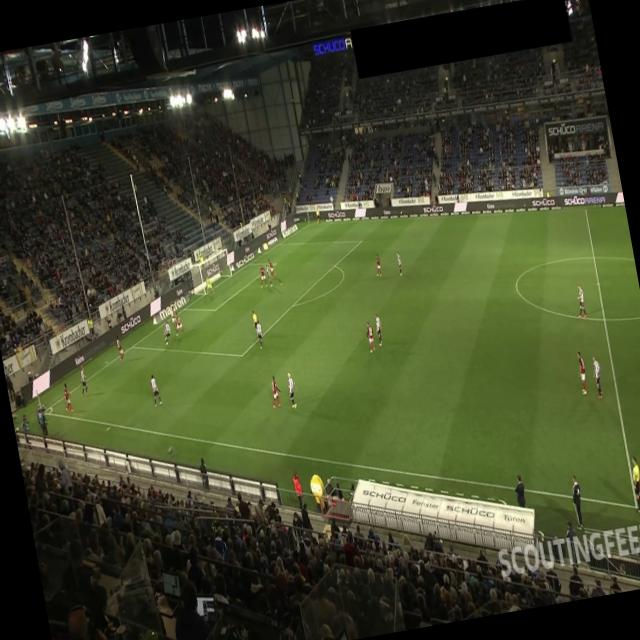goalkeeper: (202, 274, 216, 297)
player: (589, 354, 605, 398), (575, 350, 589, 395), (266, 374, 284, 409), (284, 371, 300, 408), (148, 372, 162, 407), (573, 283, 587, 318), (60, 382, 74, 413), (372, 311, 384, 346), (77, 364, 90, 396), (364, 320, 376, 353), (171, 311, 186, 336), (253, 320, 264, 349), (161, 320, 173, 346), (114, 333, 124, 360), (394, 250, 404, 276), (170, 304, 180, 330), (372, 252, 382, 277), (263, 263, 273, 288), (257, 264, 267, 288), (267, 257, 277, 279)
referee: (627, 455, 640, 514), (251, 308, 261, 336), (314, 206, 322, 225)
